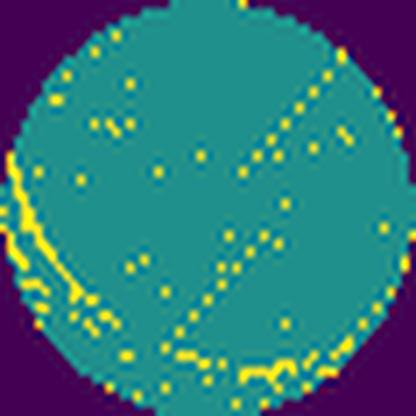Scratch: (157, 224, 277, 360), (4, 148, 100, 308), (234, 61, 342, 182)
